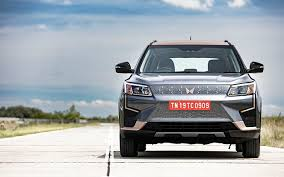XUV 400: (114, 34, 265, 161)
